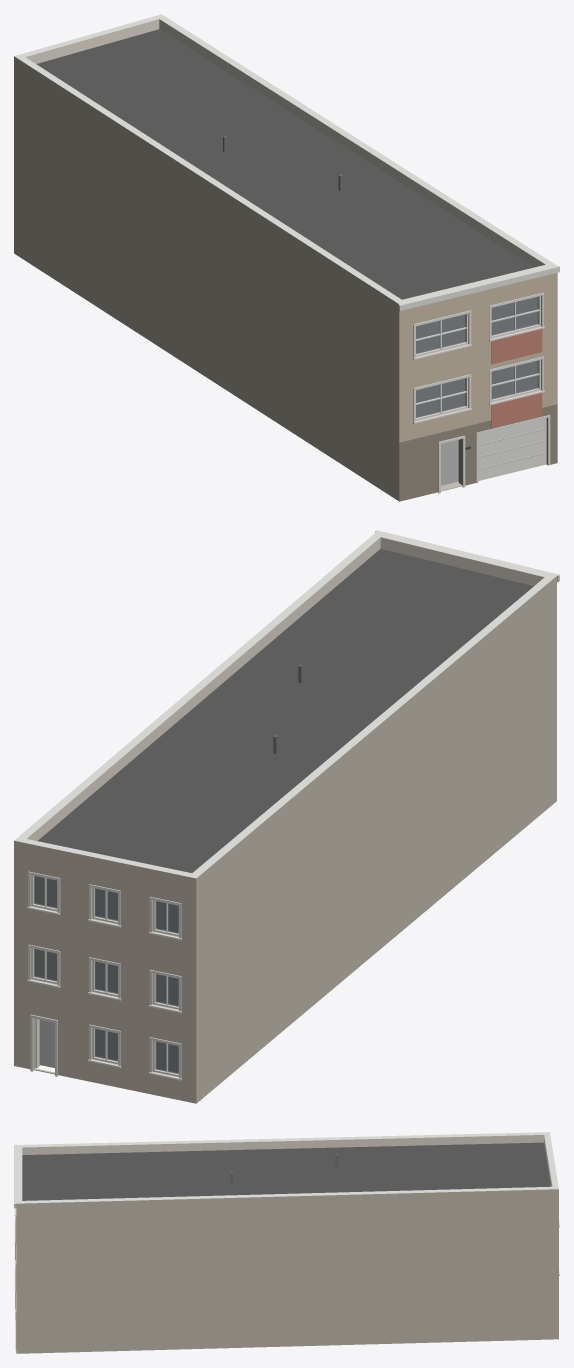
Rendered from exterior.glb.
The picture shows the model from 3 angles, top to bottom: view 1: azimuth 30°, elevation 25°; view 2: azimuth 150°, elevation 25°; view 3: azimuth 270°, elevation 25°; orthographic projection. The views are drawn at different scales.
Visible parts, largest first — view 1: shell, roof, shadow-proxy, glazing, trim, doors, frames; view 2: shell, roof, glazing, shadow-proxy, trim, frames; view 3: shell, roof.
Boxes of the visible parts, x1=… form: shell: x1=14, y1=14, x2=557, y2=501; roof: x1=36, y1=29, x2=559, y2=310; shadow-proxy: x1=416, y1=297, x2=537, y2=485; glazing: x1=416, y1=296, x2=538, y2=417; trim: x1=413, y1=292, x2=544, y2=493; doors: x1=441, y1=415, x2=550, y2=491; frames: x1=415, y1=295, x2=540, y2=420; shell: x1=14, y1=532, x2=556, y2=1103; roof: x1=37, y1=530, x2=559, y2=872; glazing: x1=34, y1=876, x2=178, y2=1073; shadow-proxy: x1=35, y1=876, x2=178, y2=1072; trim: x1=27, y1=871, x2=181, y2=1080; frames: x1=31, y1=875, x2=178, y2=1076; shell: x1=16, y1=1132, x2=558, y2=1353; roof: x1=14, y1=1142, x2=550, y2=1208.
Size of the model in its own units: 9.28 by 9.3 by 29.76.
